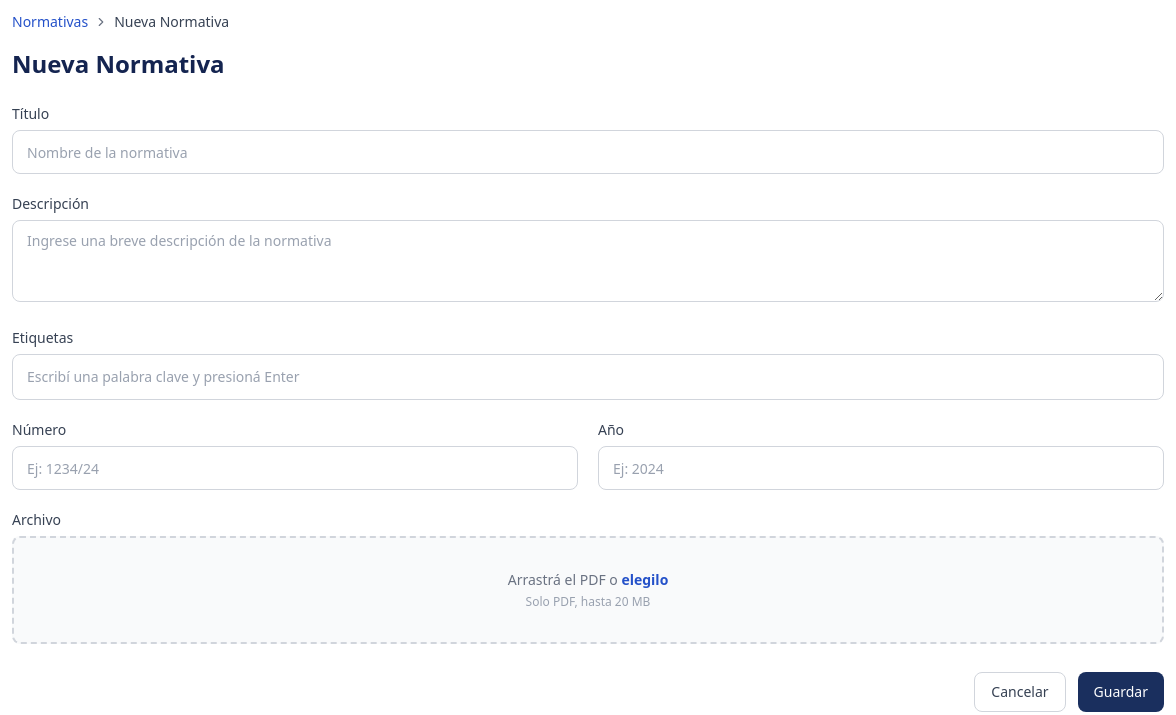
NormativaFormPage: alta (criterio 1) › sugiere etiquetas de la tabla etiqueta, compartidas con los talleres (criterio 9)
Check: the heading "Nueva Normativa" is shown, box [12, 47, 225, 80]
In the field with placeholder "Escribí una palabra clave y presioná Enter": (588,377) [23, 363, 1153, 391], type "cib"
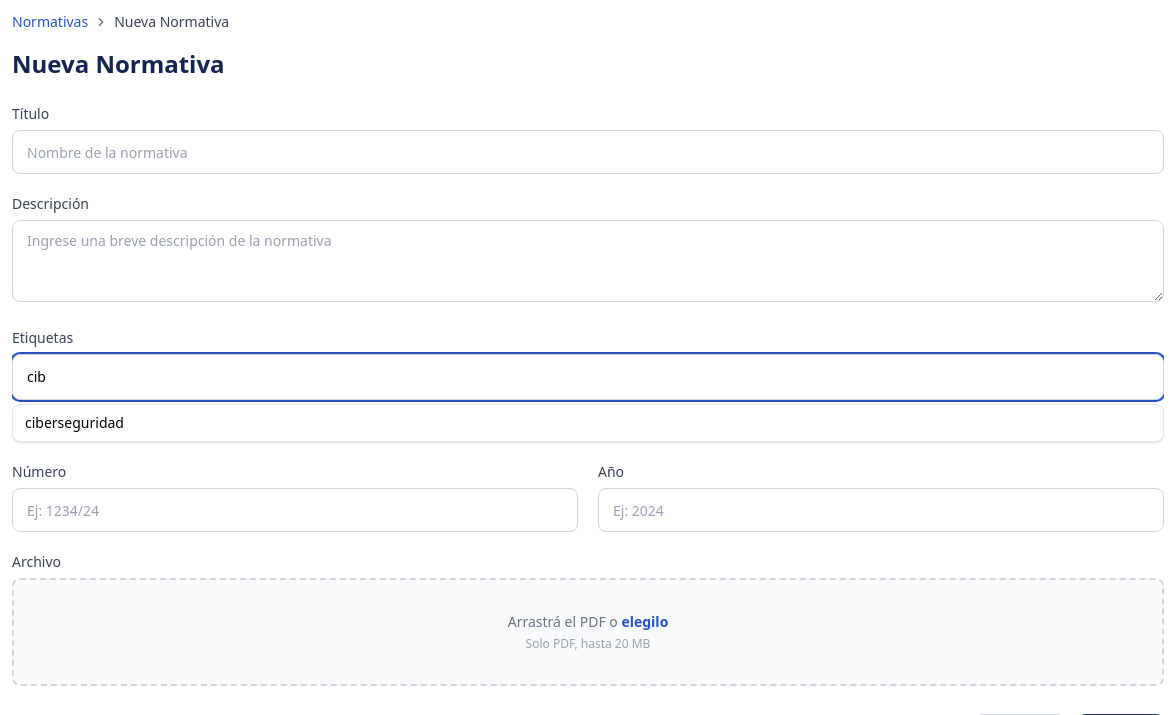
Check: the button "ciberseguridad" is shown, box [13, 405, 1163, 441]
